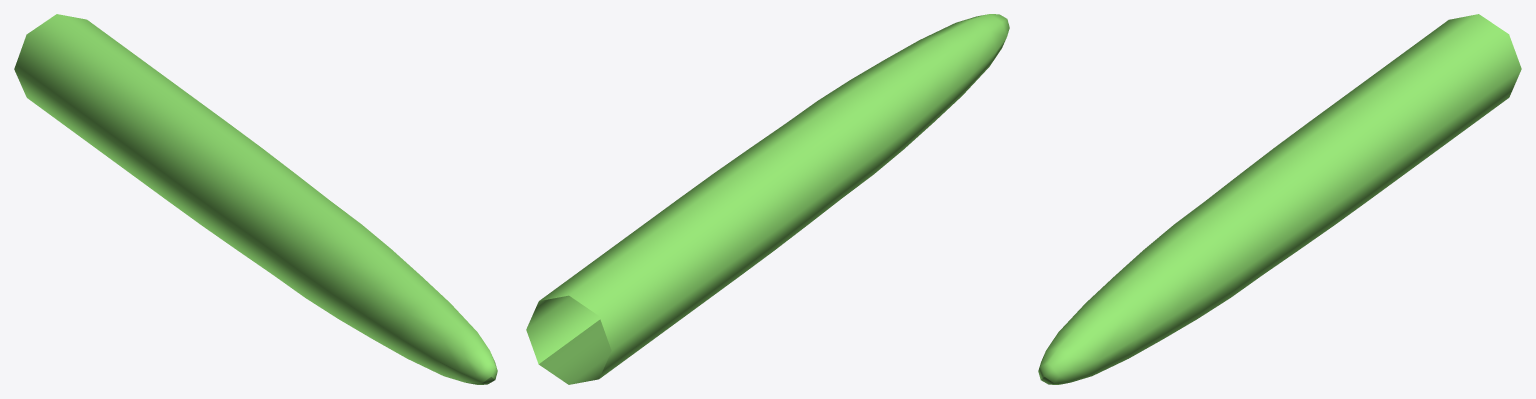
The model's file is Tentacle_5_YUp.fbx.
3 views of the same model, side by side, from view 1: azimuth 30°, elevation 25°; view 2: azimuth 150°, elevation 25°; view 3: azimuth 330°, elevation 25° (orthographic).
Visible parts, largest first — view 1: Tentacle.005, Tentacle.004; view 2: Tentacle.005, Tentacle.004; view 3: Tentacle.005, Tentacle.004.
Part boxes in pixels (x1,y1,x2,y2): Tentacle.005: (154,116,497,384); Tentacle.004: (14,14,226,199); Tentacle.005: (679,14,1009,276); Tentacle.004: (526,193,751,384); Tentacle.005: (1038,116,1381,384); Tentacle.004: (1309,14,1521,199).
Bounding box in the file's own units: 0.5519 × 0.5519 × 4.86.
